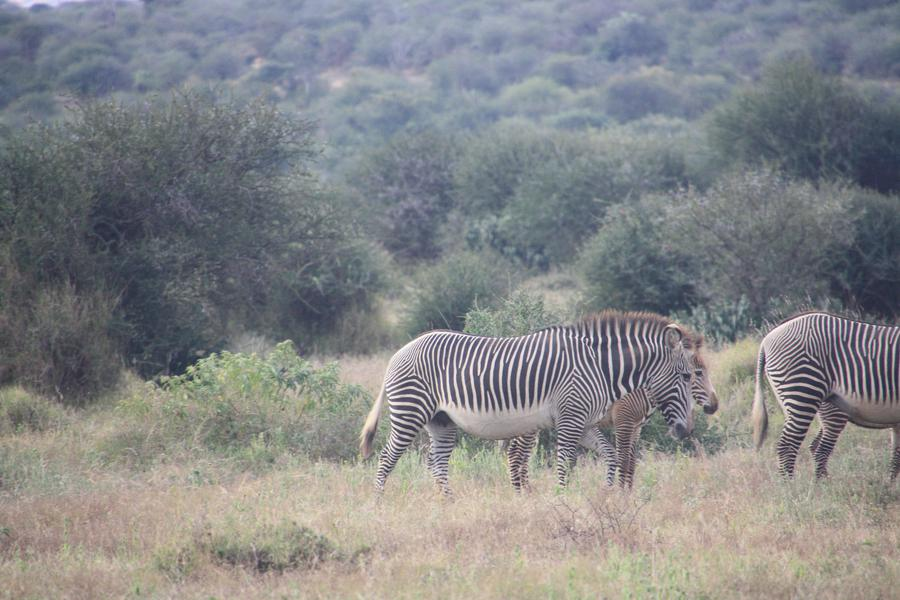zebra_grevys: (388, 322, 580, 428)
